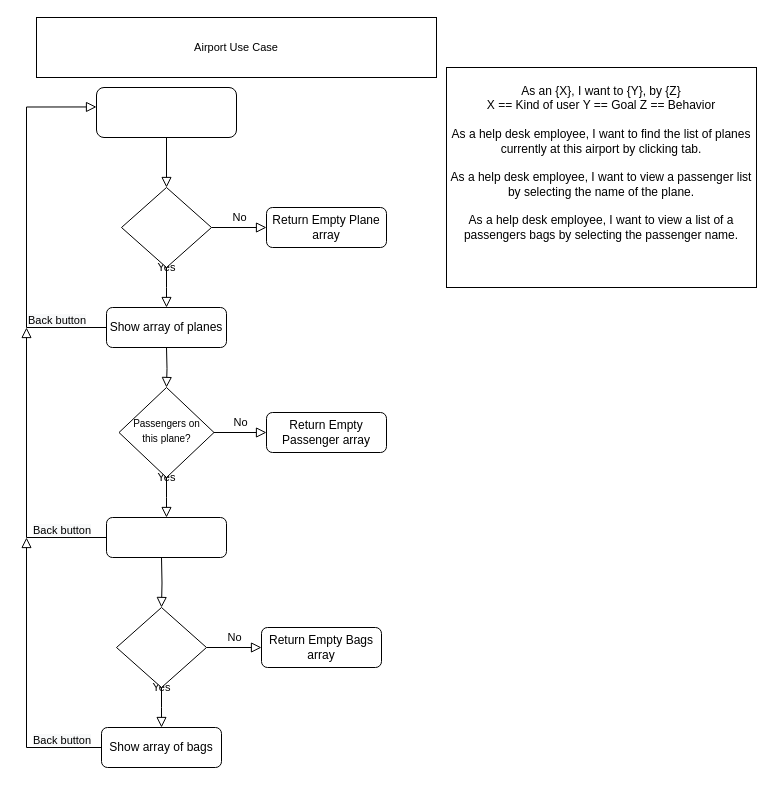
This 774x785 diagram has some shape labels left out. Each missing label, with the centre of its shape:
"Employee wants to information about flights" belongs at (x=166, y=112).
"Passenger has bags?" belongs at (x=161, y=647).
"Planes in this airport ?" belongs at (x=166, y=227).
"Show array of passengers" belongs at (x=166, y=537).
